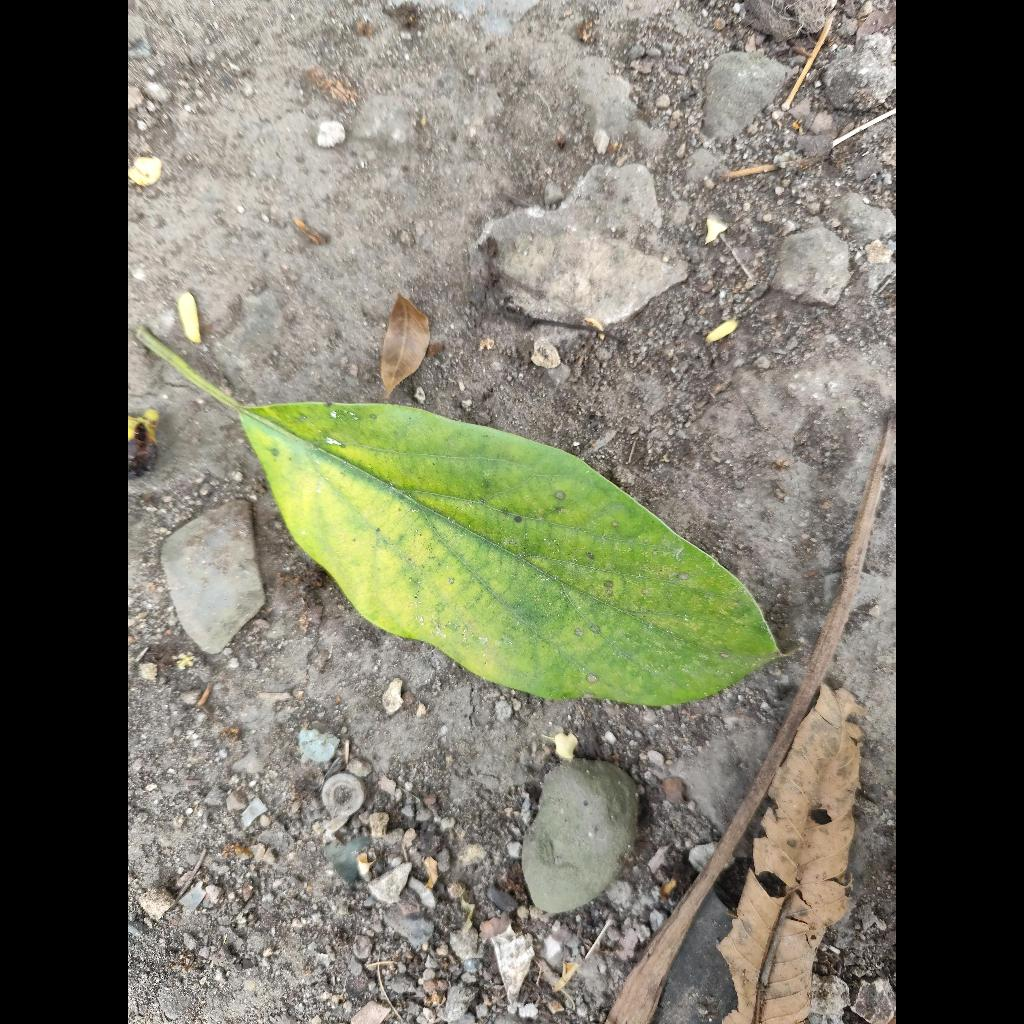nutrient_deficiency: (141, 331, 779, 706)
